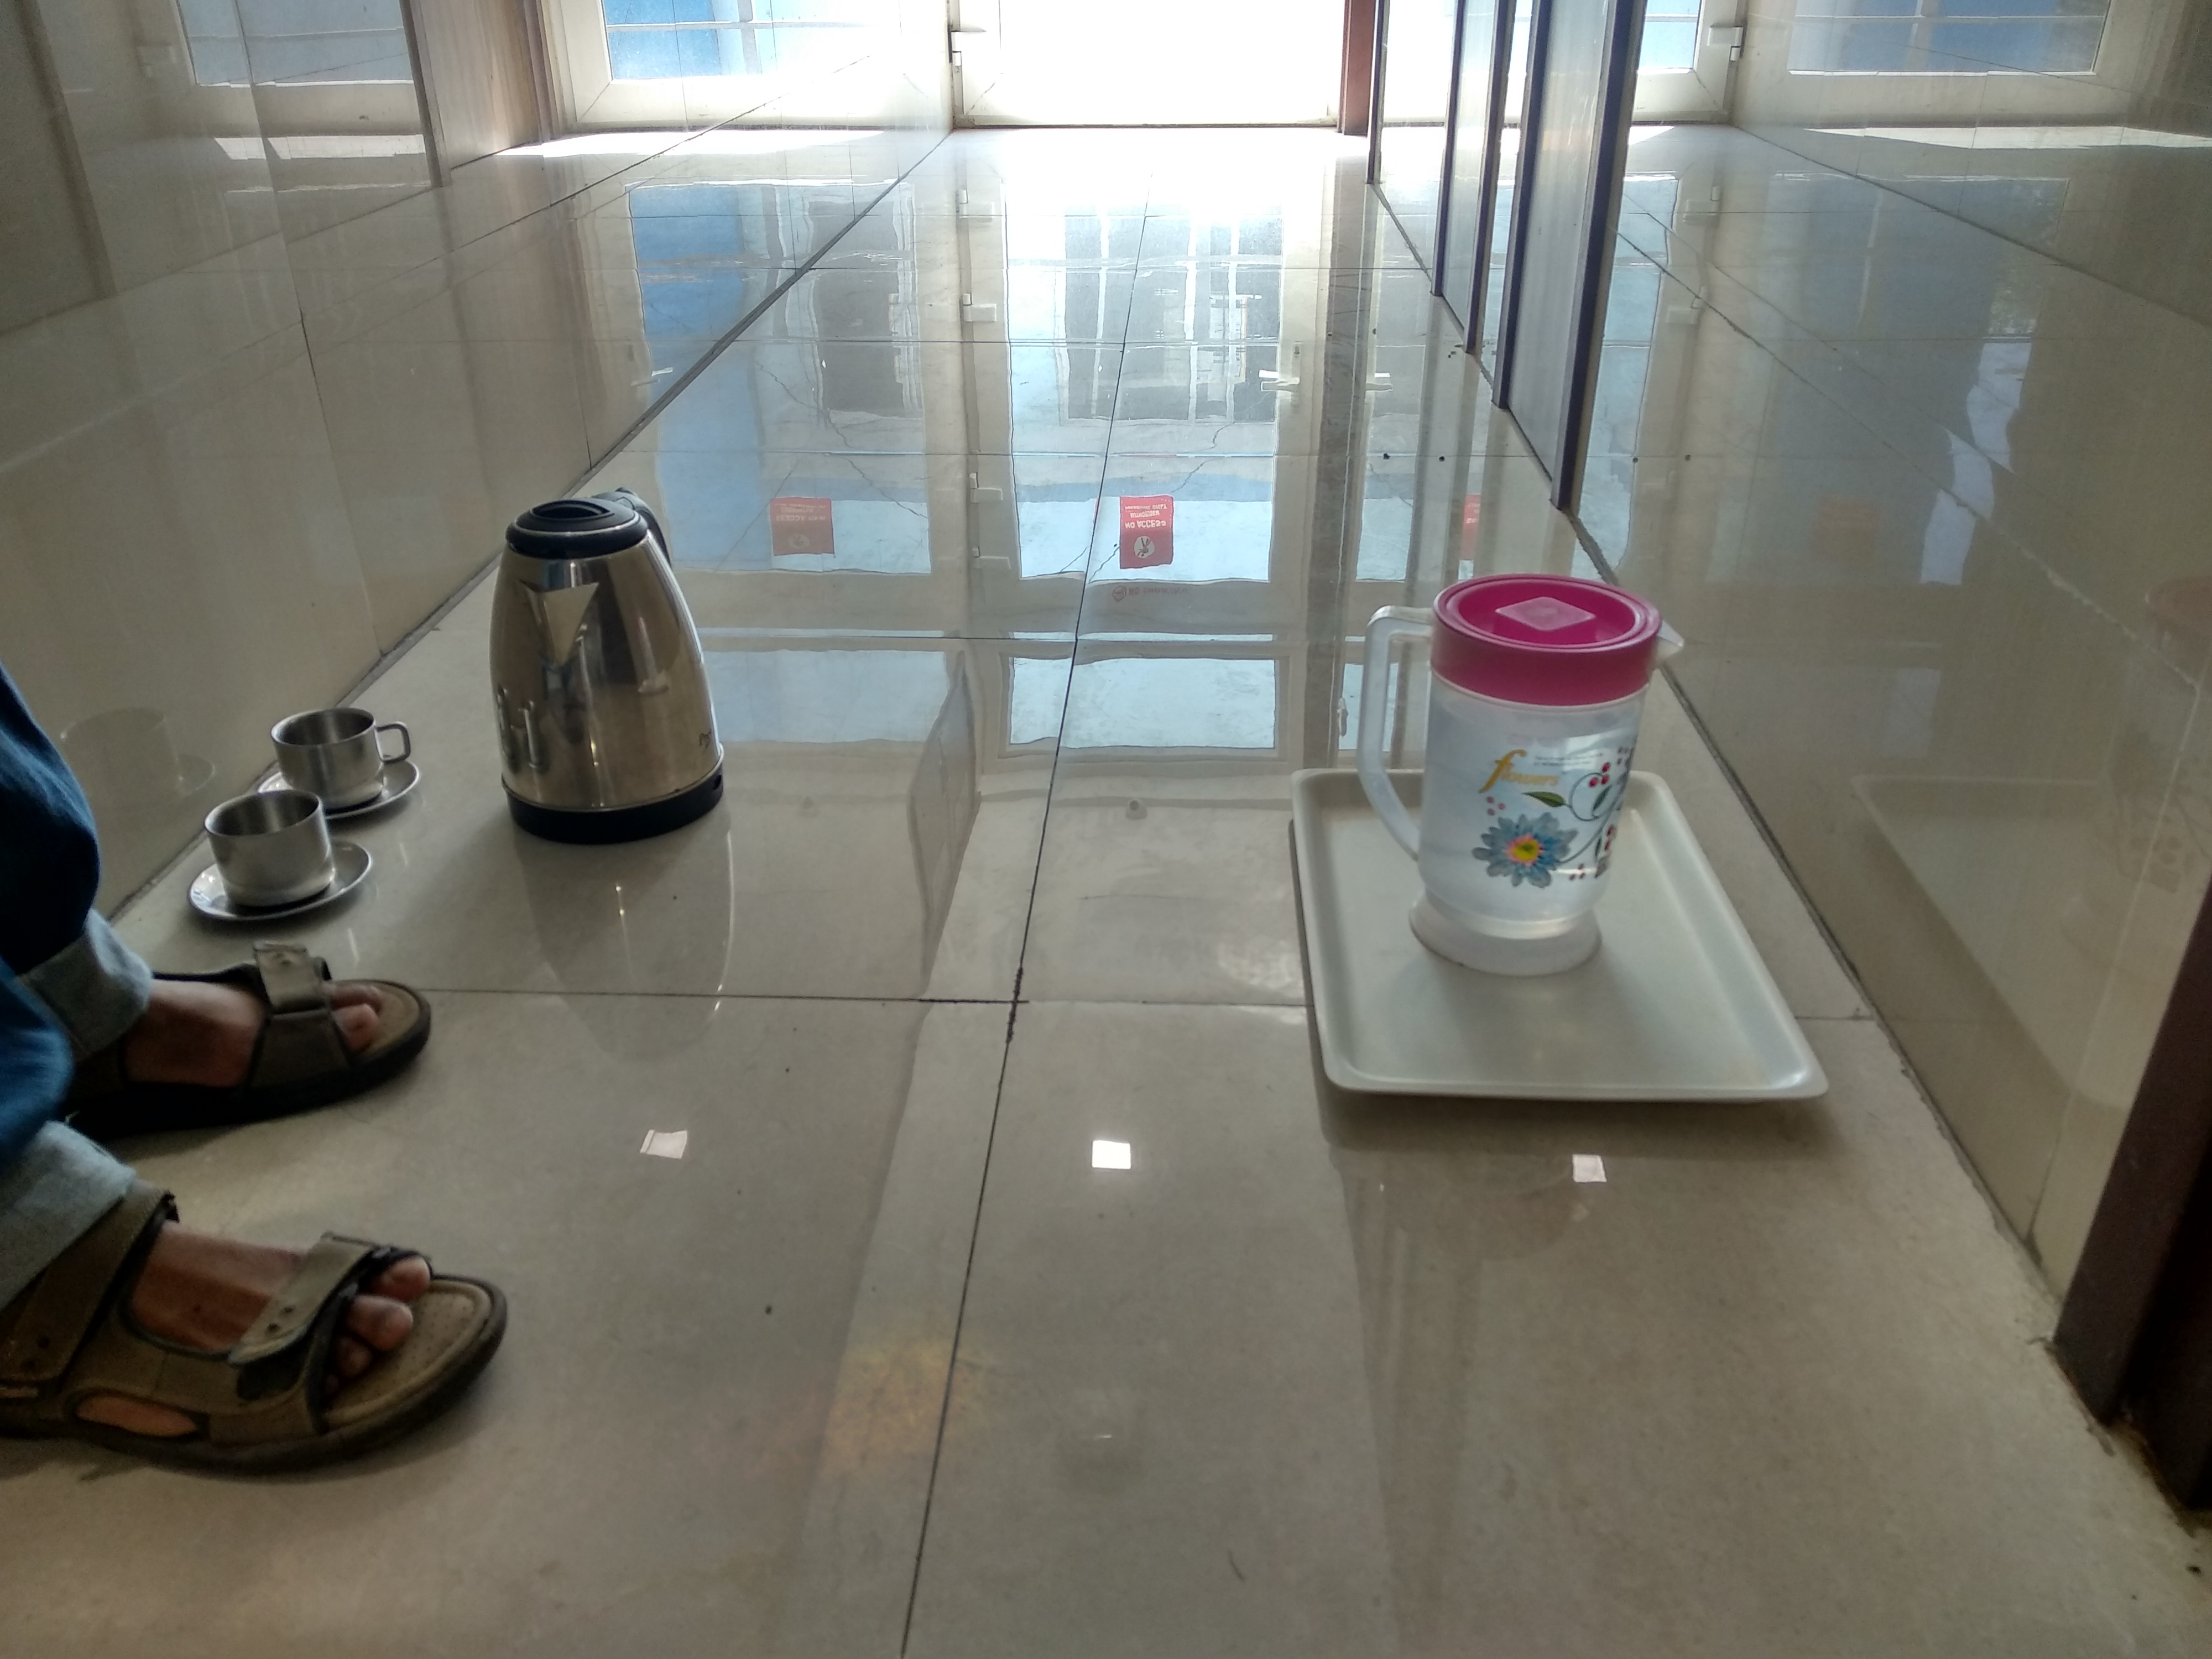CUP: (185, 788, 376, 932), (246, 706, 423, 812)
JUG: (1329, 521, 1695, 1007), (441, 479, 763, 868)
